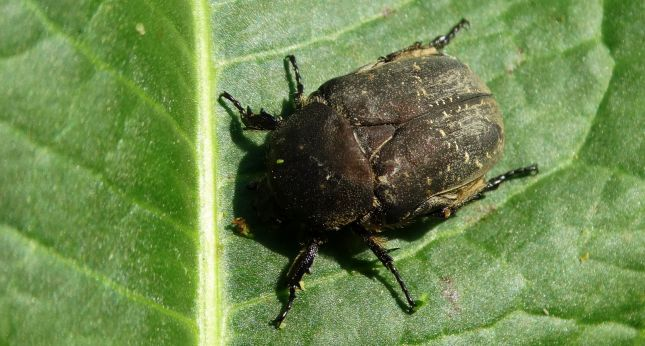Protaetia_lugubris: (222, 15, 539, 331)
